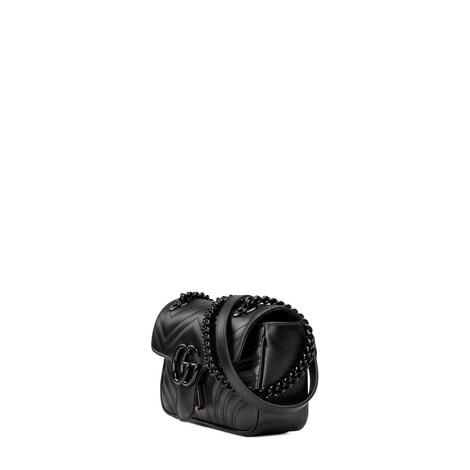Gucci: (152, 289, 319, 434), (168, 336, 207, 385)
